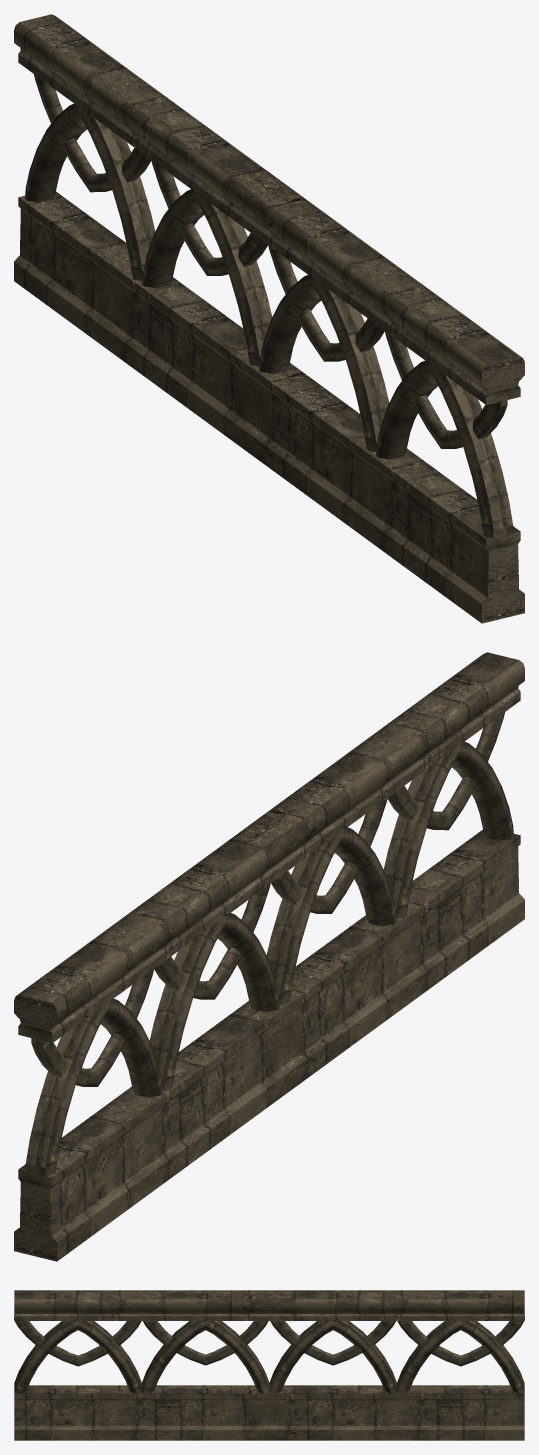
The model's file is NC_rail.DAE.
3 renders of one model, top to bottom at view 1: azimuth 30°, elevation 25°; view 2: azimuth 150°, elevation 25°; view 3: azimuth 270°, elevation 25°, orthographic. The views are drawn at different scales.
Parts seen in each view (by area): view 1: NC_rail; view 2: NC_rail; view 3: NC_rail.
Boxes of the visible parts, x1,y1,x2,y2 form: NC_rail: [14, 14, 524, 623]; NC_rail: [14, 652, 524, 1261]; NC_rail: [14, 1290, 524, 1440].
Bounding box in the file's own units: 0.2122 × 4.01 × 1.22.
